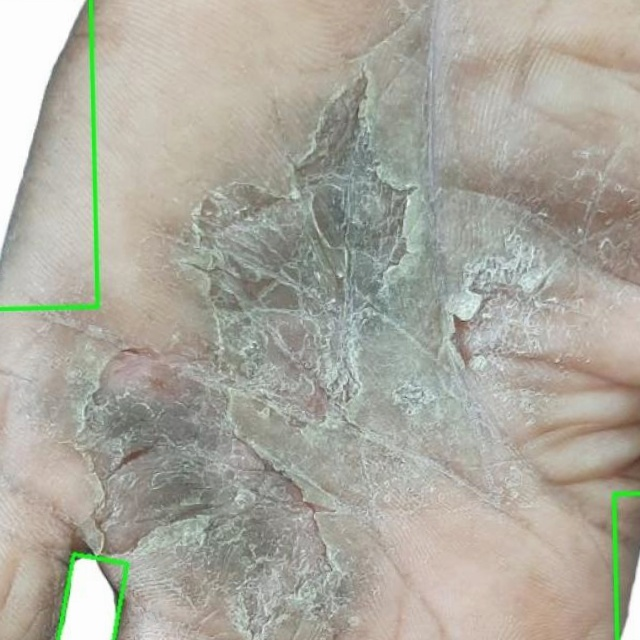Contact Dermatitis: (0, 0, 97, 310), (58, 554, 126, 639)
